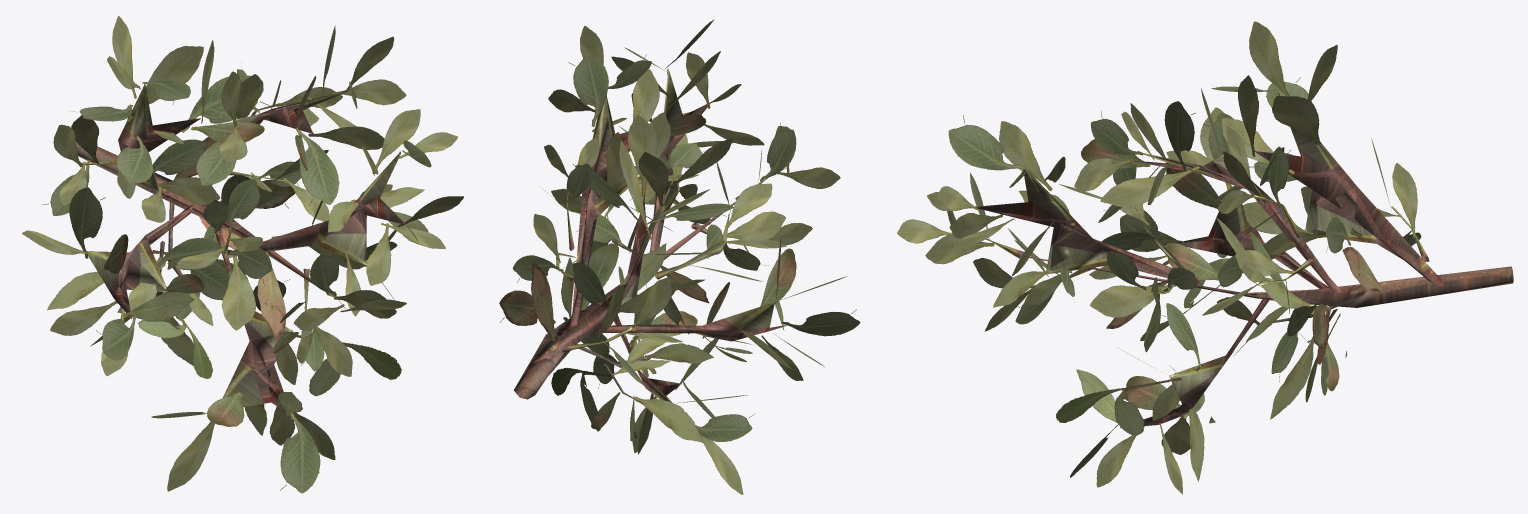
File: shrub_b.glb
The picture shows the model from 3 angles, left to right: view 1: azimuth 30°, elevation 25°; view 2: azimuth 150°, elevation 25°; view 3: azimuth 270°, elevation 25°; orthographic projection. The views are drawn at different scales.
Parts seen in each view (by area): view 1: shrub_b; view 2: shrub_b; view 3: shrub_b.
Part boxes in pixels (x1,y1,x2,y2): shrub_b: (22, 16, 463, 493); shrub_b: (499, 19, 860, 494); shrub_b: (897, 21, 1513, 494).
Bounding box in the file's own units: 0.1117 × 0.131 × 0.1643.
1 material, 1 textured.
